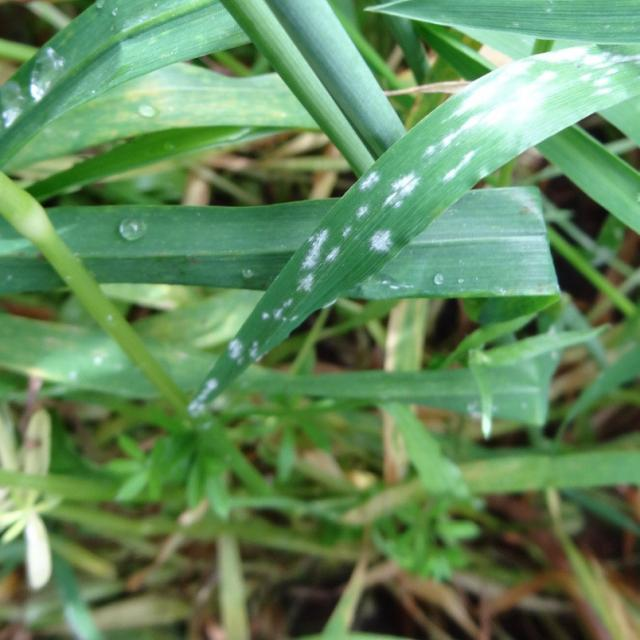wheat-powdery-mildew: (439, 61, 536, 126), (485, 70, 558, 127), (426, 112, 487, 156), (383, 170, 420, 210), (528, 43, 596, 64), (297, 231, 329, 272), (442, 151, 478, 182), (191, 380, 216, 409), (369, 230, 396, 255), (601, 53, 640, 68), (359, 169, 382, 189), (275, 298, 292, 322), (583, 52, 611, 66), (250, 341, 268, 361), (228, 339, 245, 359), (297, 276, 317, 289), (324, 249, 343, 262), (590, 87, 610, 98), (339, 225, 352, 238), (356, 207, 369, 219), (578, 72, 591, 81), (602, 70, 619, 75), (261, 312, 269, 322), (595, 81, 608, 86)
